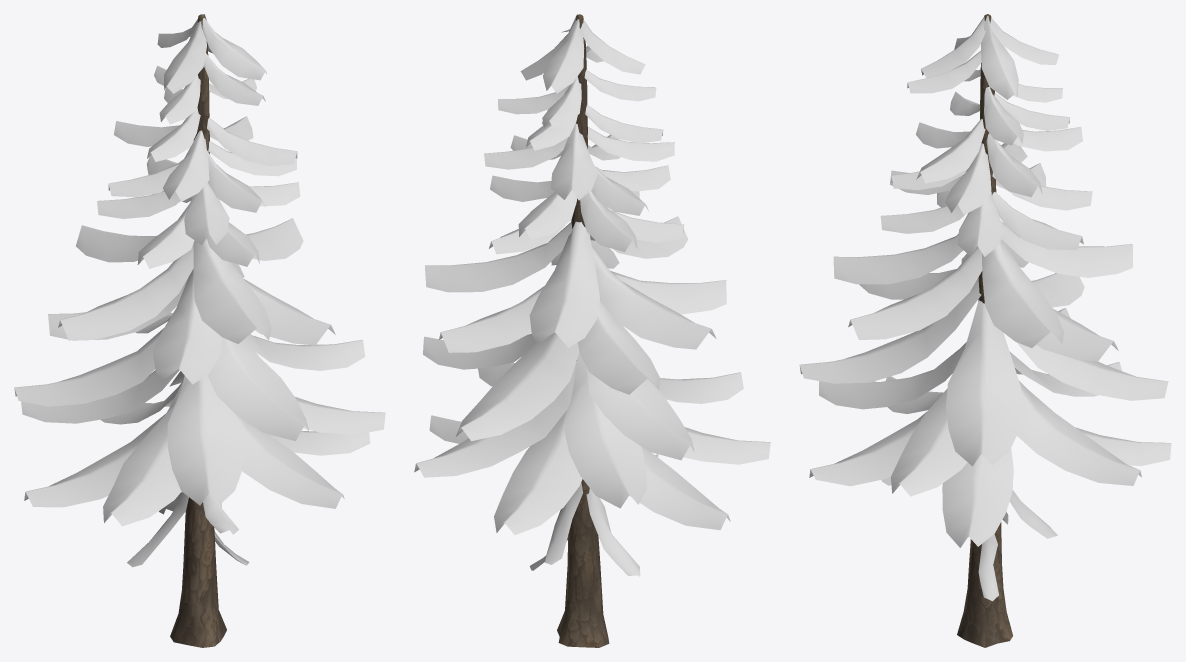
File: tree02_main.fbx
3 renders of one model, left to right at view 1: azimuth 30°, elevation 25°; view 2: azimuth 150°, elevation 25°; view 3: azimuth 270°, elevation 25°, orthographic.
Parts seen in each view (by area): view 1: Cylinder.001; view 2: Cylinder.001; view 3: Cylinder.001.
Part boxes in pixels (<box>): Cylinder.001: <box>14,14,385,647</box>; Cylinder.001: <box>414,14,770,647</box>; Cylinder.001: <box>799,14,1171,647</box>.
Bounding box in the file's own units: 359 × 665 × 360.
